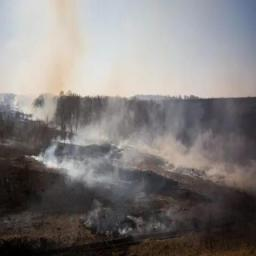Low smoke: (11, 0, 255, 233)
